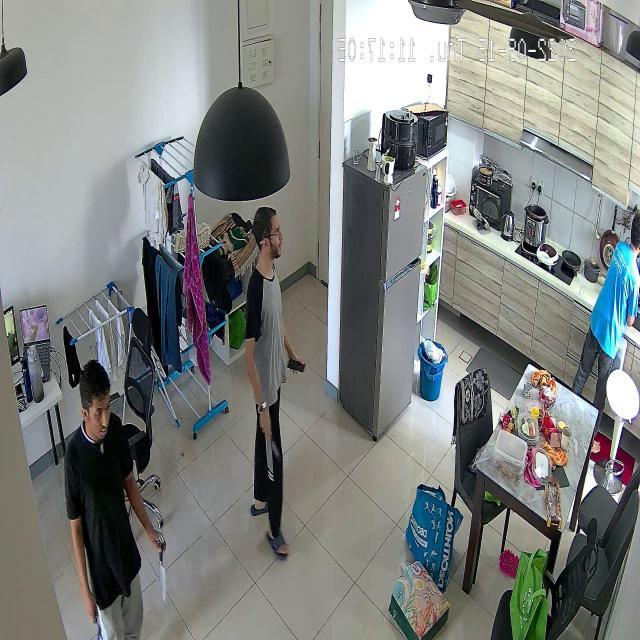Knife: (152, 536, 180, 612)
